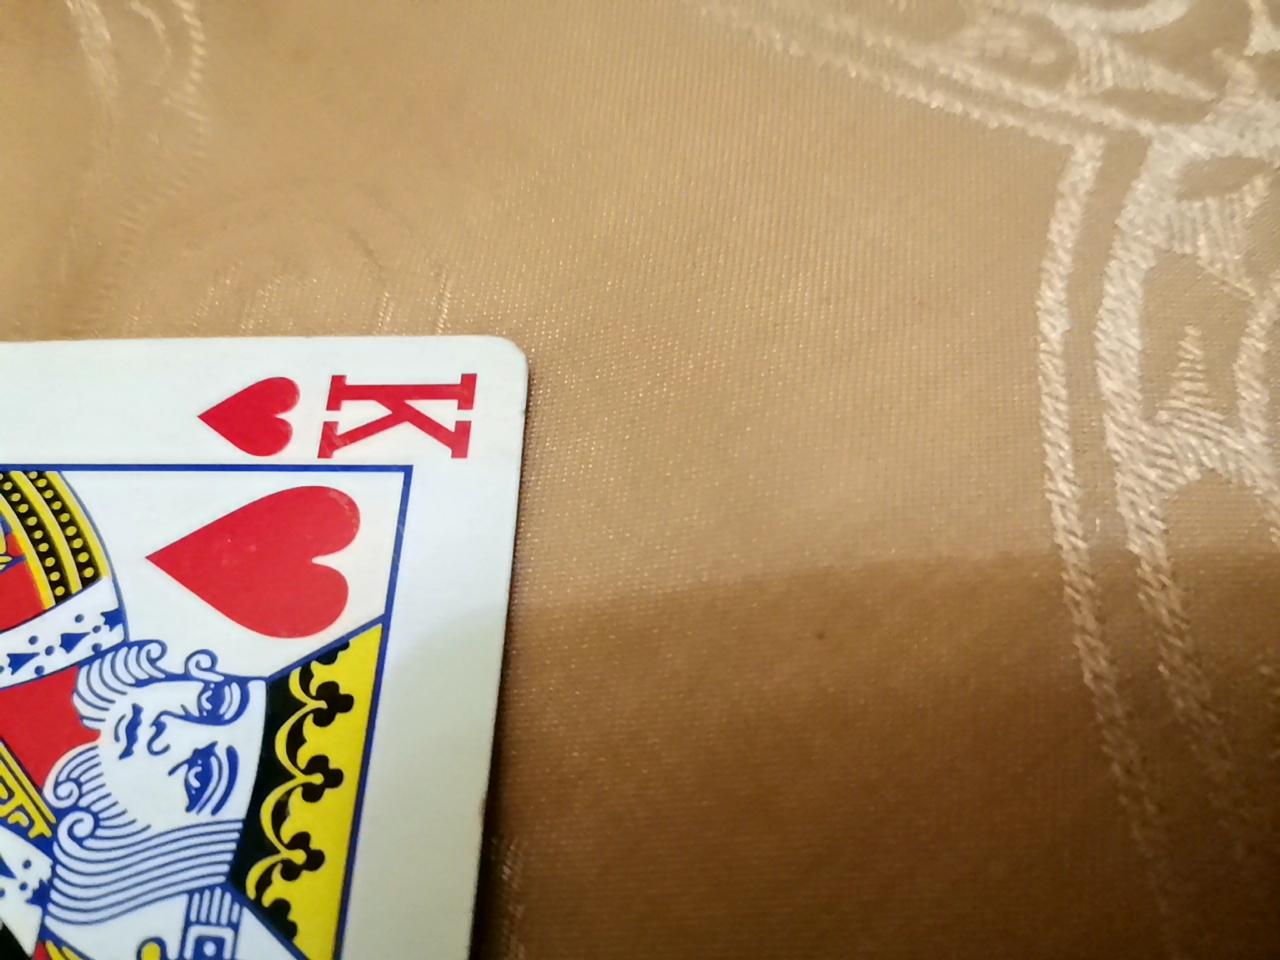hx k: (3, 216, 675, 954)
